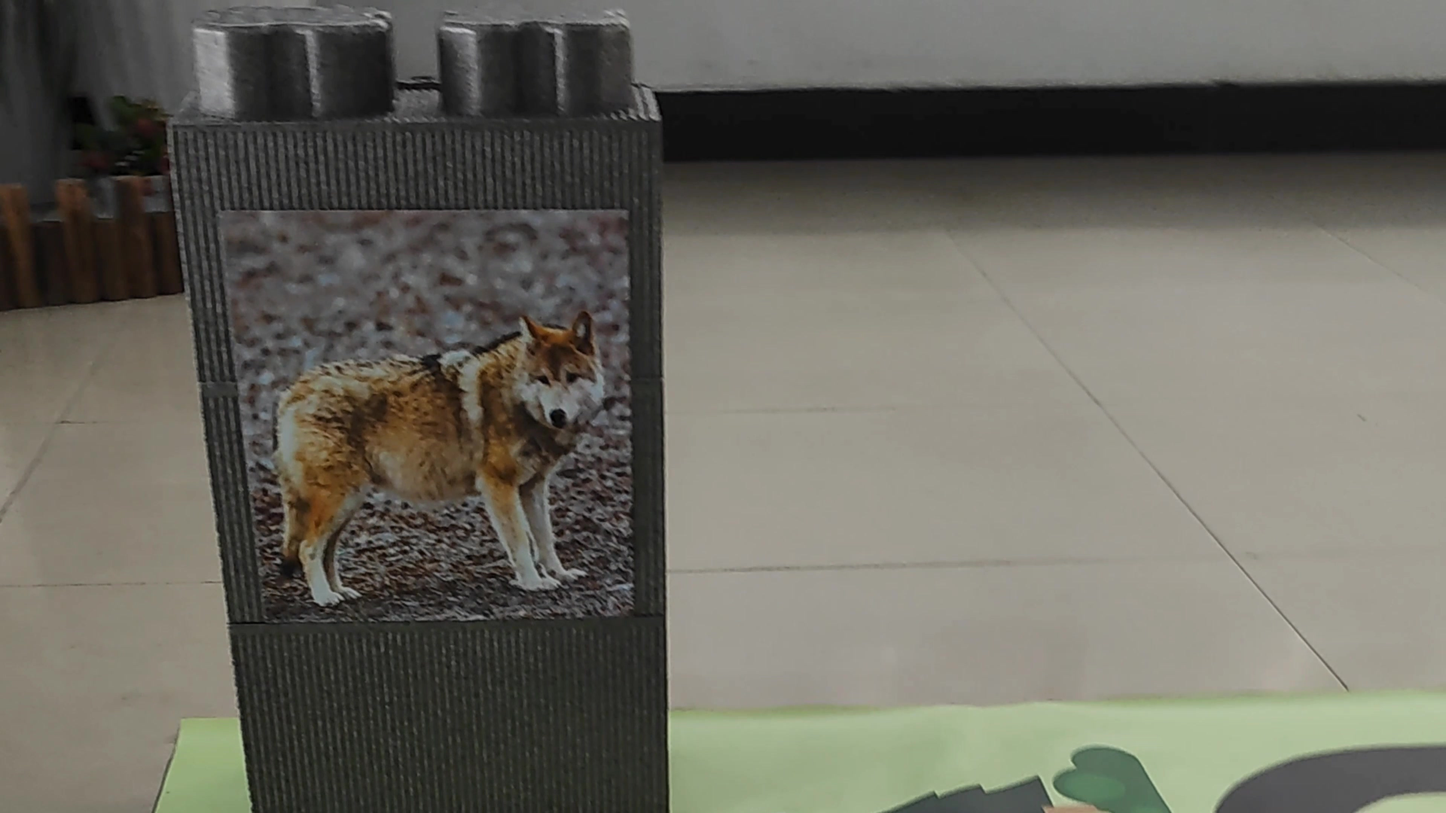wolf: (230, 203, 616, 600)
